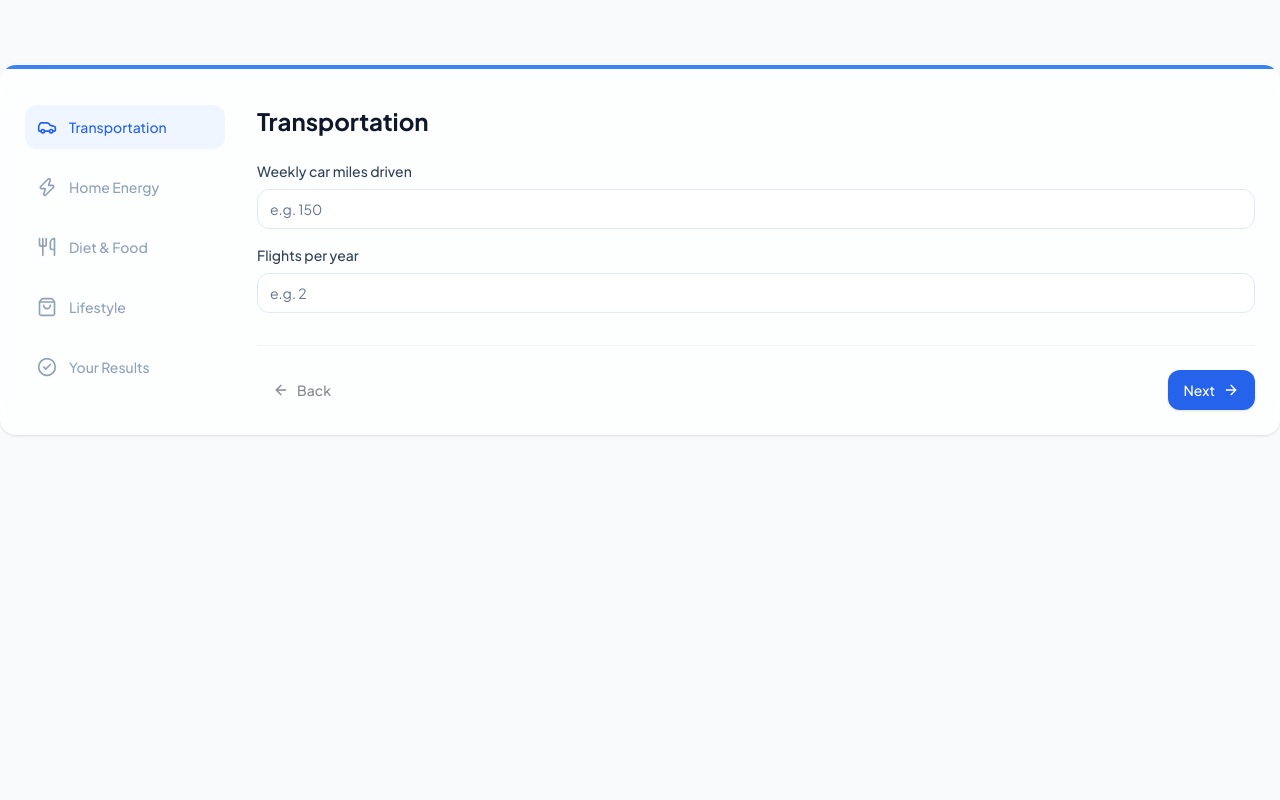
Scenario: Calculator › shows results with "Sign In to Save" for unauthenticated users
Navigate through all steps using headings
Click the button "Next" at (1211, 390), box [1168,370,1255,410]
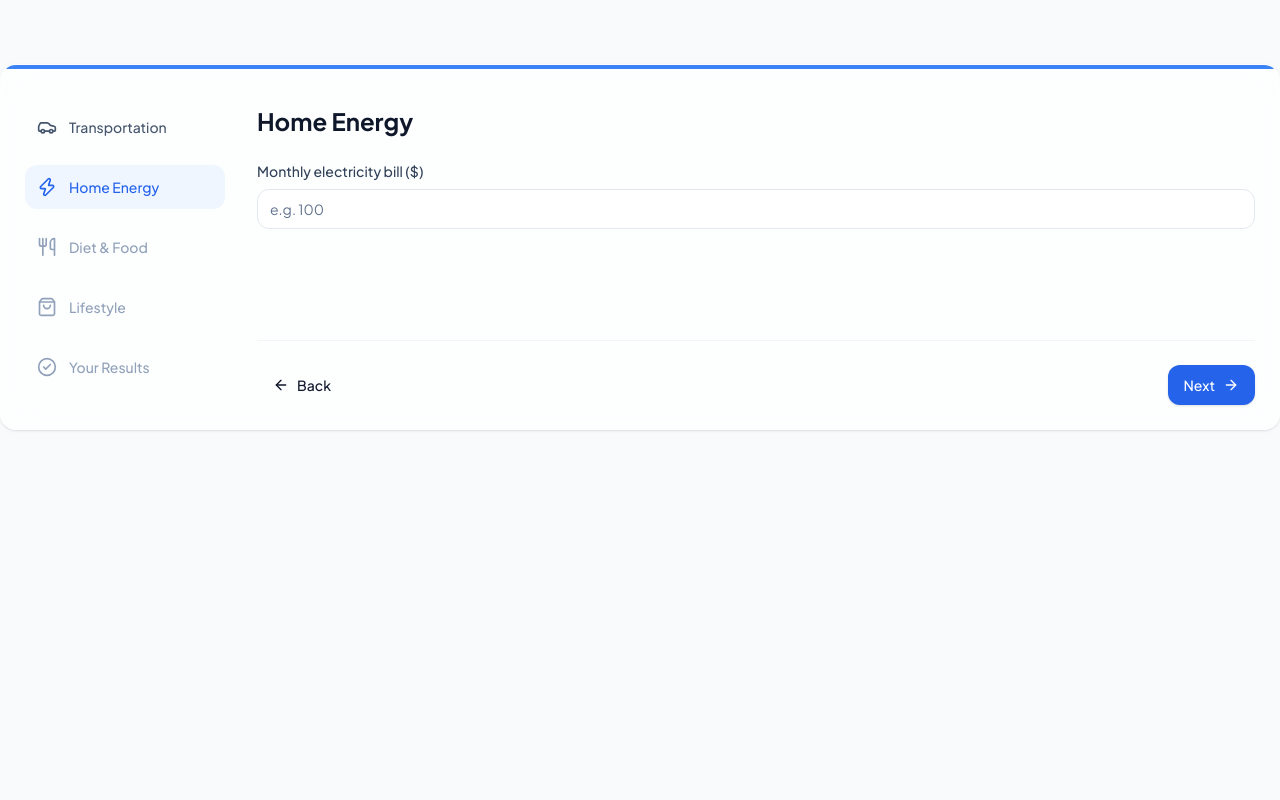
Expected: the heading "Home Energy" is shown, [257,106,413,136]
Click the button "Next" at (1211, 385), box [1168,365,1255,405]
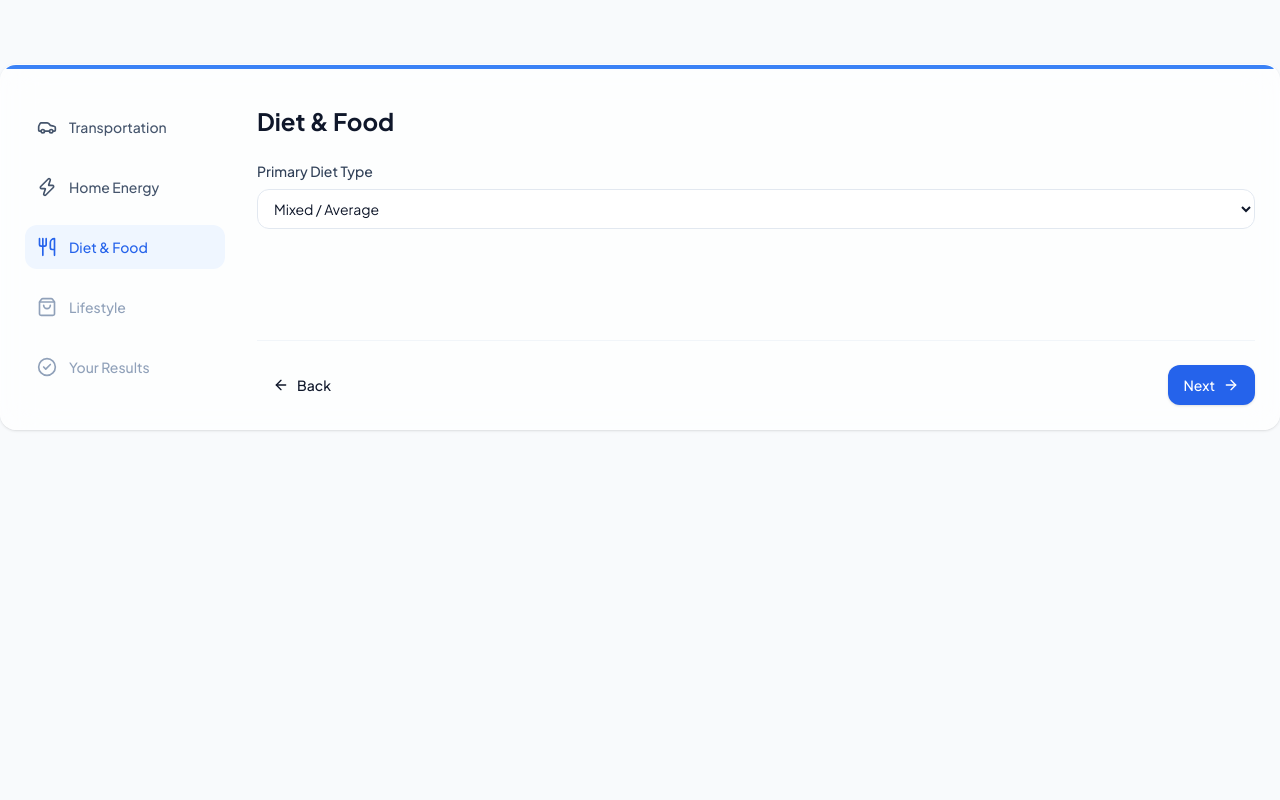
Expected: the heading "Diet & Food" is shown, [257,106,394,136]
Click the button "Next" at (1211, 385), box [1168,365,1255,405]
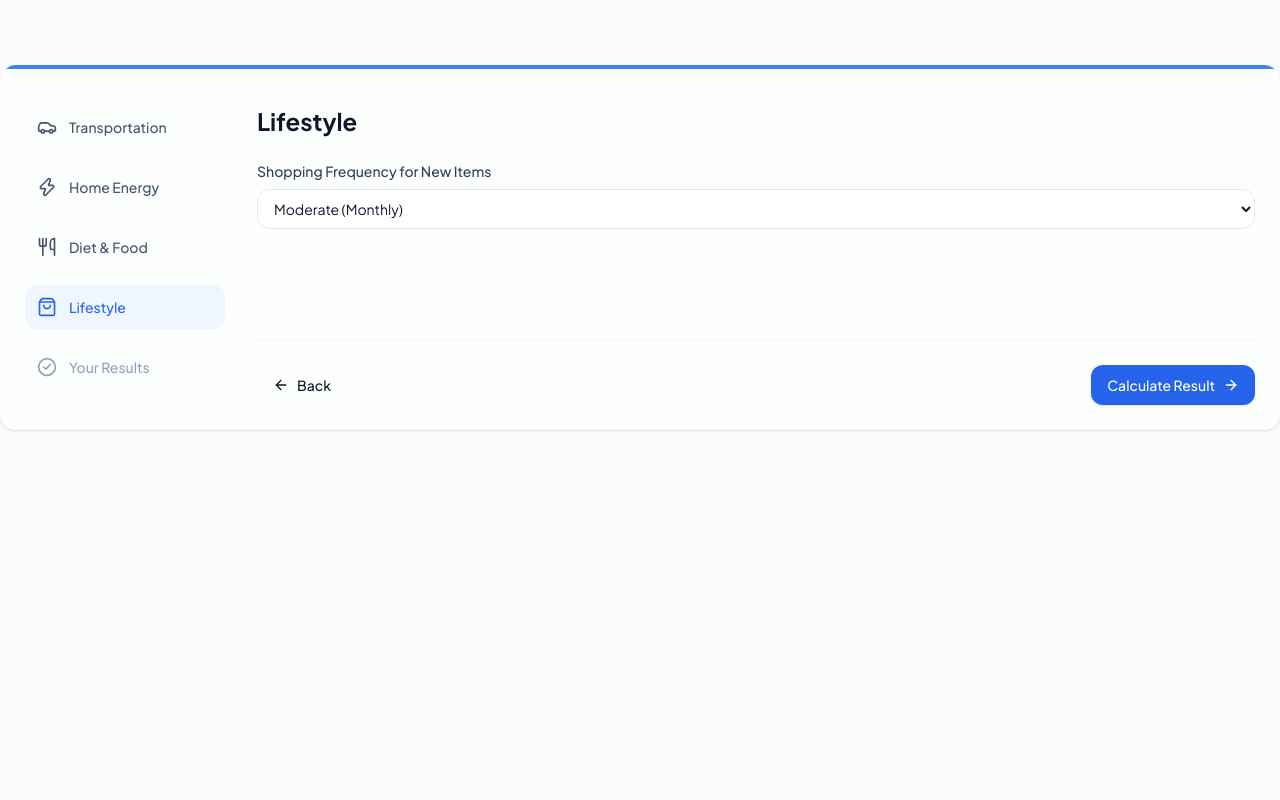
Expected: the heading "Lifestyle" is shown, [257,106,357,136]
Click Calculate Result (step 3 → 4)
Click the button "Calculate Result" at (1173, 385), box [1091,365,1255,405]
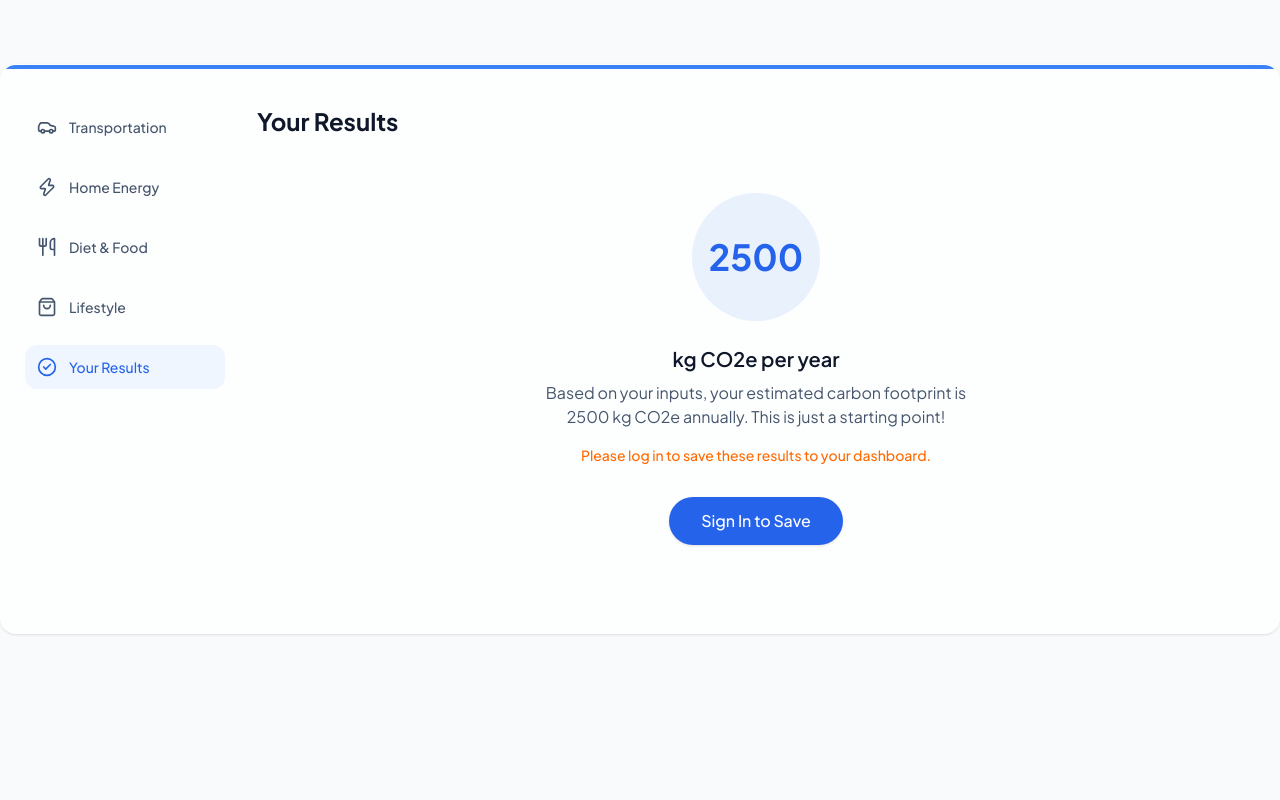
Expected: the heading "kg CO2e per year" is shown, [672,346,840,371]
Expected: the button "Sign In to Save" is shown, [669,497,843,545]
